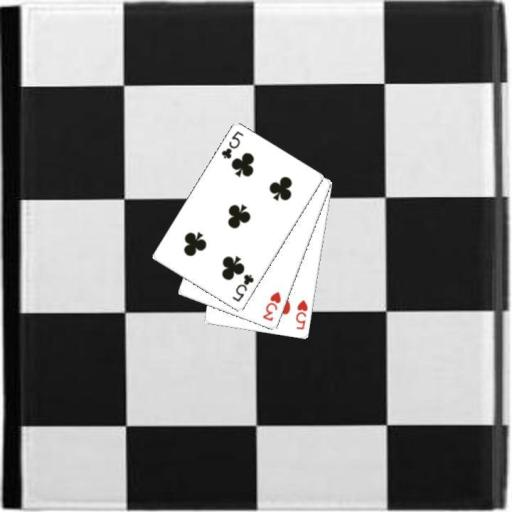3H: (260, 289, 283, 323)
5C: (218, 128, 245, 161), (229, 271, 255, 304)
5H: (293, 298, 309, 332)
